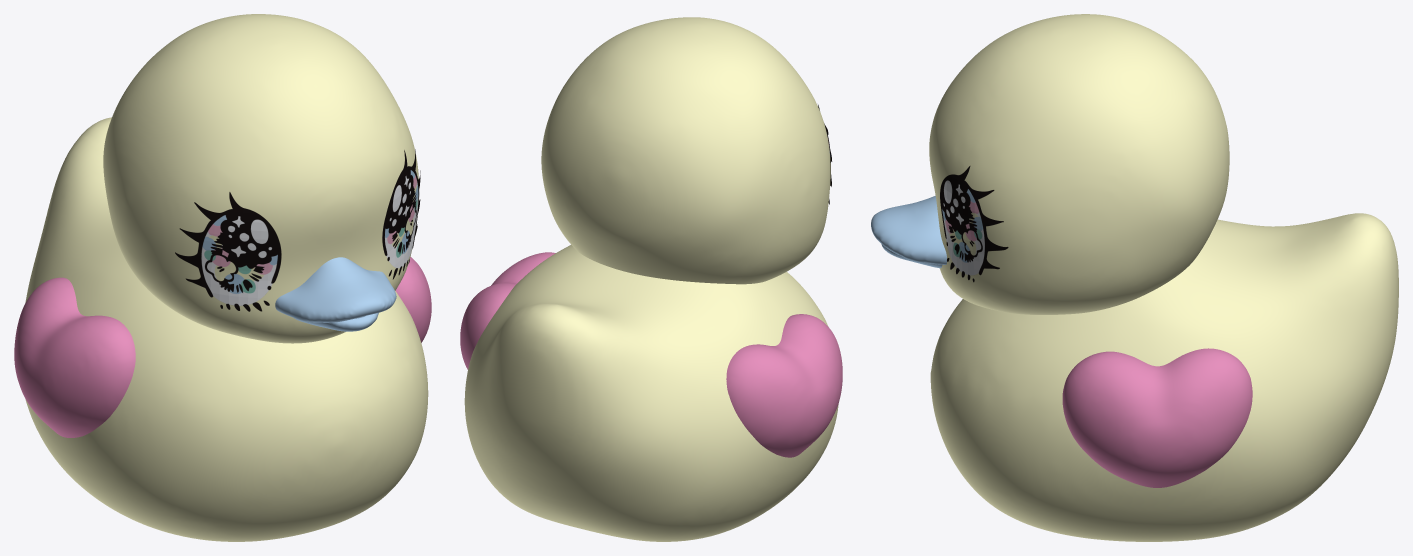
3 views of the same model, side by side, from view 1: azimuth 30°, elevation 25°; view 2: azimuth 150°, elevation 25°; view 3: azimuth 270°, elevation 25° (orthographic). The views are drawn at different scales.
Parts seen in each view (by area): view 1: Torebi 5, Fix, Torebi 7, 平面.002, Torebi 3, Torebi 4; view 2: Torebi 5, Fix, Torebi 7, Torebi 4; view 3: Torebi 5, Fix, Torebi 4, 平面.002, Torebi 3.
Boxes of the visible parts, bbox=[...] form: Torebi 5: bbox=[25, 117, 428, 541]; Fix: bbox=[103, 14, 418, 343]; Torebi 7: bbox=[14, 277, 135, 437]; 平面.002: bbox=[175, 149, 420, 311]; Torebi 3: bbox=[275, 257, 396, 331]; Torebi 4: bbox=[395, 257, 431, 342]; Torebi 5: bbox=[464, 245, 838, 541]; Fix: bbox=[541, 17, 830, 284]; Torebi 7: bbox=[726, 314, 842, 457]; Torebi 4: bbox=[460, 252, 555, 369]; Torebi 5: bbox=[930, 213, 1398, 541]; Fix: bbox=[929, 14, 1229, 314]; Torebi 4: bbox=[1062, 348, 1252, 487]; 平面.002: bbox=[940, 166, 1008, 282]; Torebi 3: bbox=[871, 195, 946, 268].
Bounding box in the file's own units: 50.64 × 60.08 × 62.26.
Materials: 5 (1 with a texture image).
